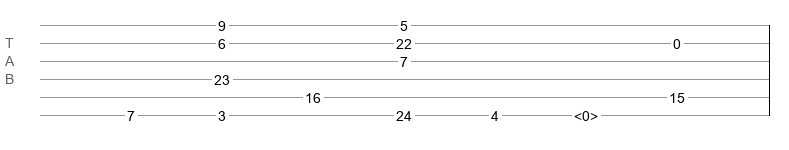0: (673, 36, 681, 46)
15: (669, 90, 685, 100)
16: (305, 90, 321, 100)
22: (396, 36, 412, 46)
23: (214, 72, 230, 82)
24: (396, 108, 412, 118)
3: (218, 108, 226, 118)
4: (491, 108, 499, 118)
5: (400, 18, 408, 28)
6: (218, 36, 226, 46)
7: (127, 108, 135, 118), (400, 54, 408, 64)
9: (218, 18, 226, 28)
harmonic: (574, 108, 598, 118)
